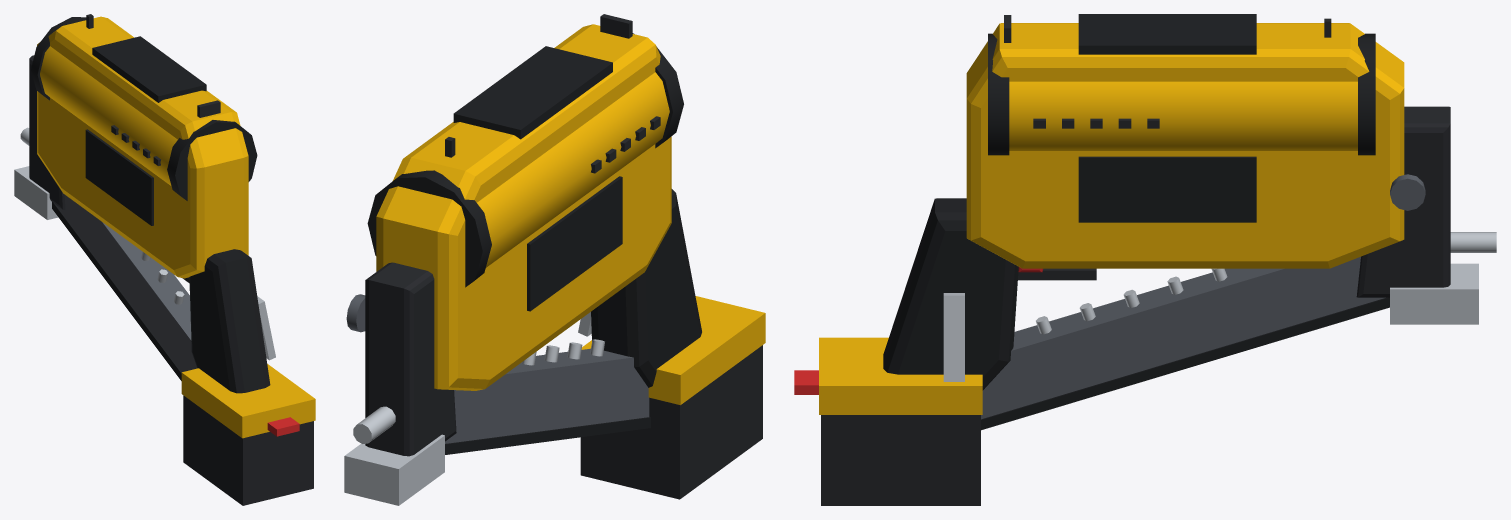
File: cloueuse.glb
3 views of the same model, side by side, from view 1: azimuth 30°, elevation 25°; view 2: azimuth 150°, elevation 25°; view 3: azimuth 270°, elevation 25° (orthographic). The views are drawn at different scales.
Visible parts, largest first — view 1: object 1, object 2, object 3, chargeur (×2), object 4, object 6; view 2: object 1, object 2, object 3, chargeur (×3), object 4, object 5; view 3: object 1, object 2, chargeur (×3), object 3, object 4, object 5.
Boxes of the visible parts, x1,y1,x2,y2 form: object 1: (37, 16, 315, 438); object 2: (31, 17, 270, 393); object 3: (29, 14, 313, 505); chargeur (×2): (52, 195, 197, 380); object 4: (14, 127, 275, 360); object 6: (267, 417, 299, 436); object 1: (376, 24, 765, 405); object 2: (367, 33, 701, 387); object 3: (365, 14, 762, 499); chargeur (×3): (445, 339, 650, 454); object 4: (344, 312, 591, 505); object 5: (346, 294, 365, 332); object 1: (819, 23, 1404, 414); object 2: (883, 14, 1375, 390); chargeur (×3): (981, 256, 1389, 430); object 3: (821, 15, 1450, 505); object 4: (943, 232, 1496, 381); object 5: (1390, 174, 1425, 210).
Size of the model in its own units: 0.0739 by 0.287 by 0.395.
